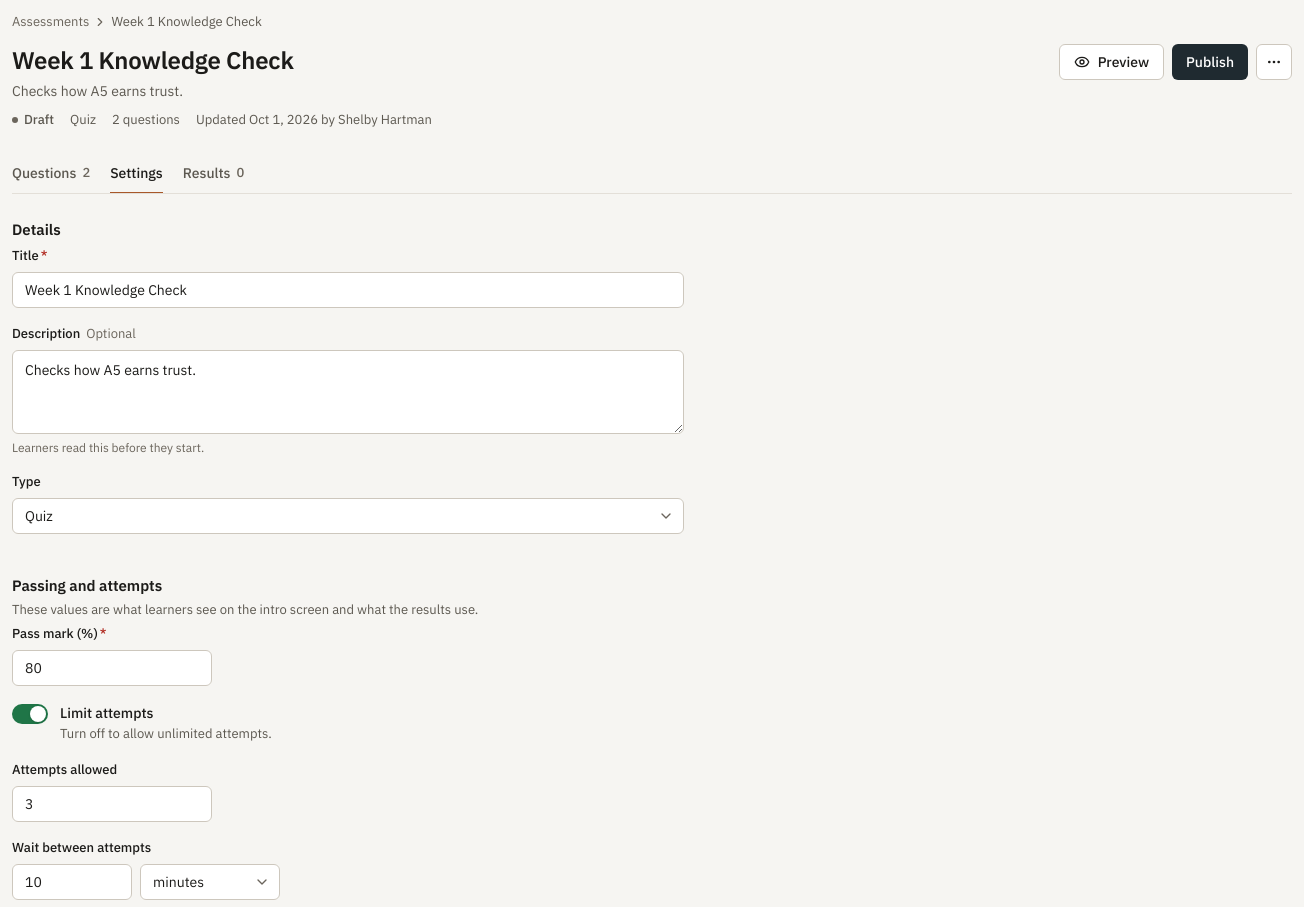
Test case: AssessmentBuilderPage › settings › shows the configuration and saves a changed pass mark
Expected: the number field labelled "Attempts allowed" holds "3", [12, 786, 212, 822]
Replace the text in the number field labelled "Pass mark (%)*" with "75" at (112, 668), box [12, 650, 212, 686]
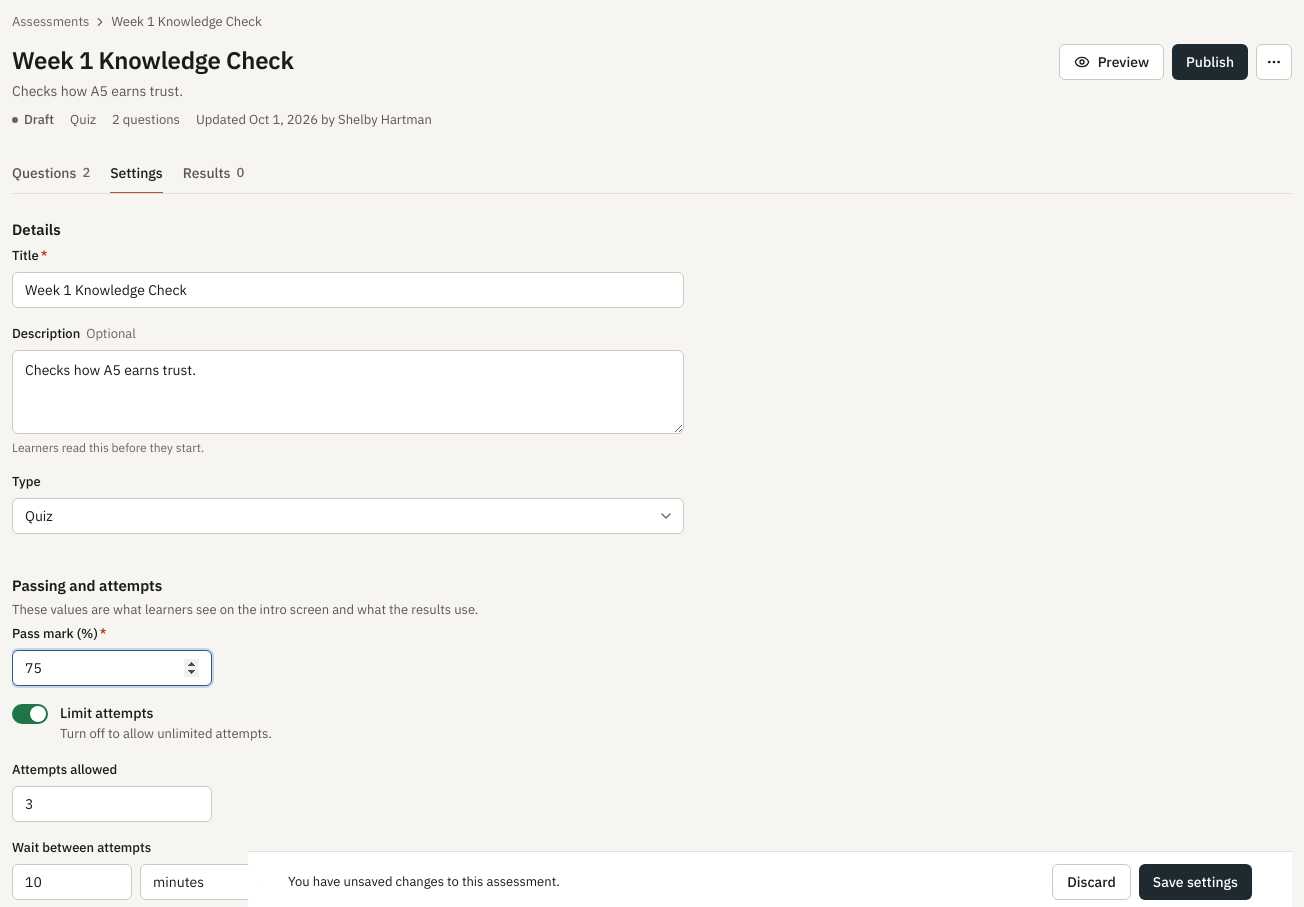
Click the button "Save settings".
click(1195, 882)  # box [1139, 864, 1252, 900]
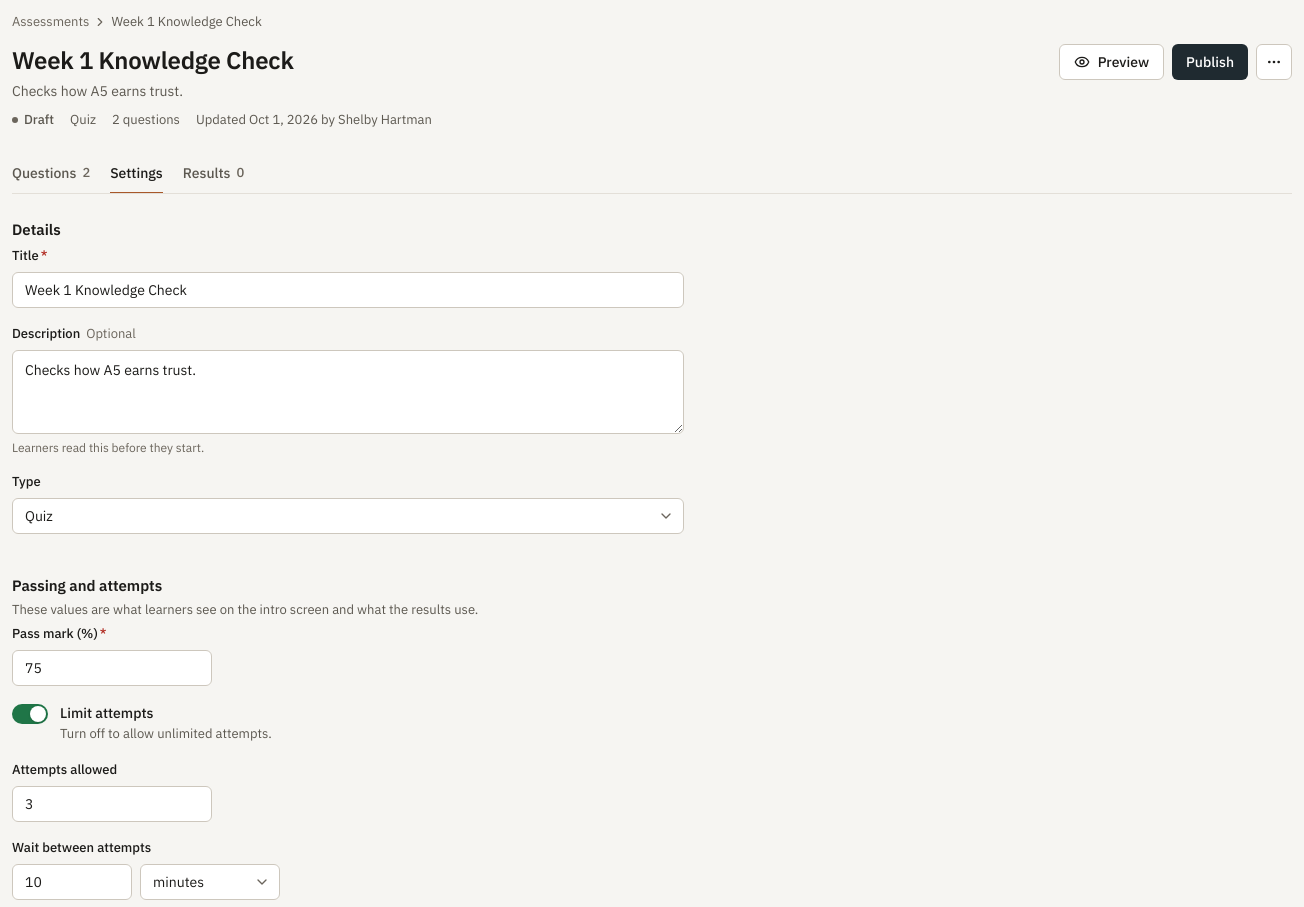
Now the button "Save settings" is gone
